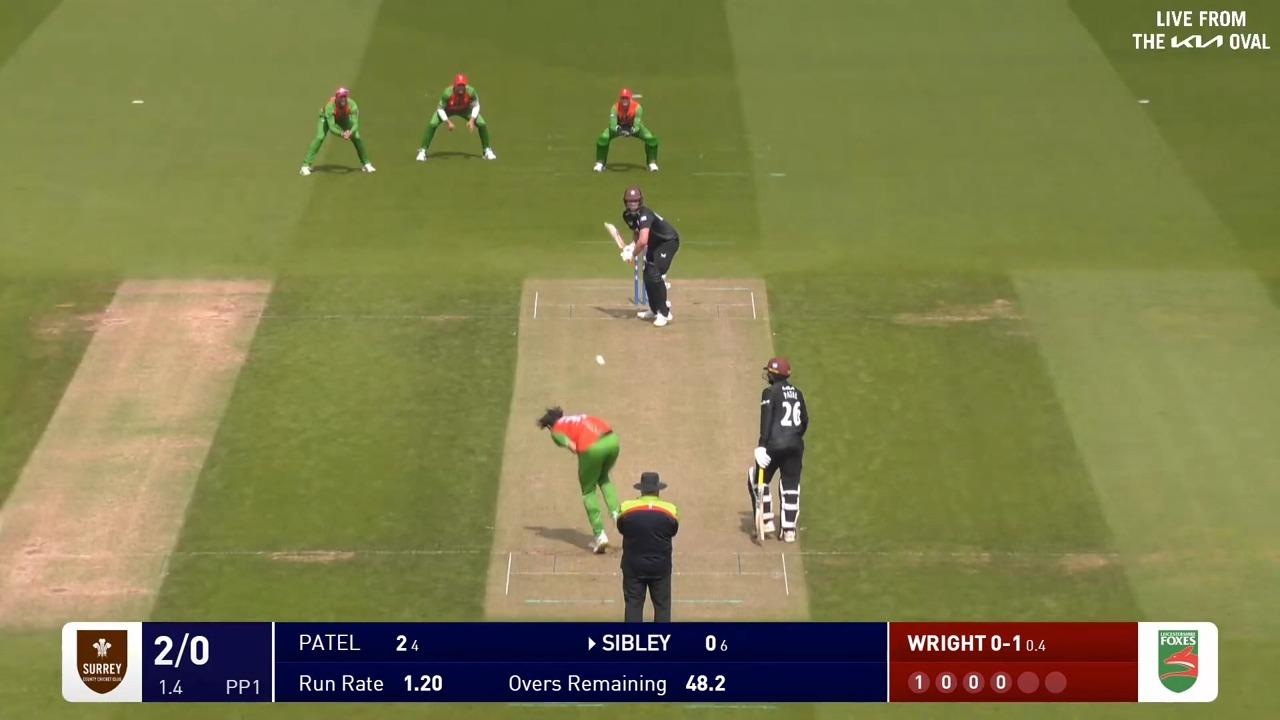sports ball: (596, 355, 605, 365)
